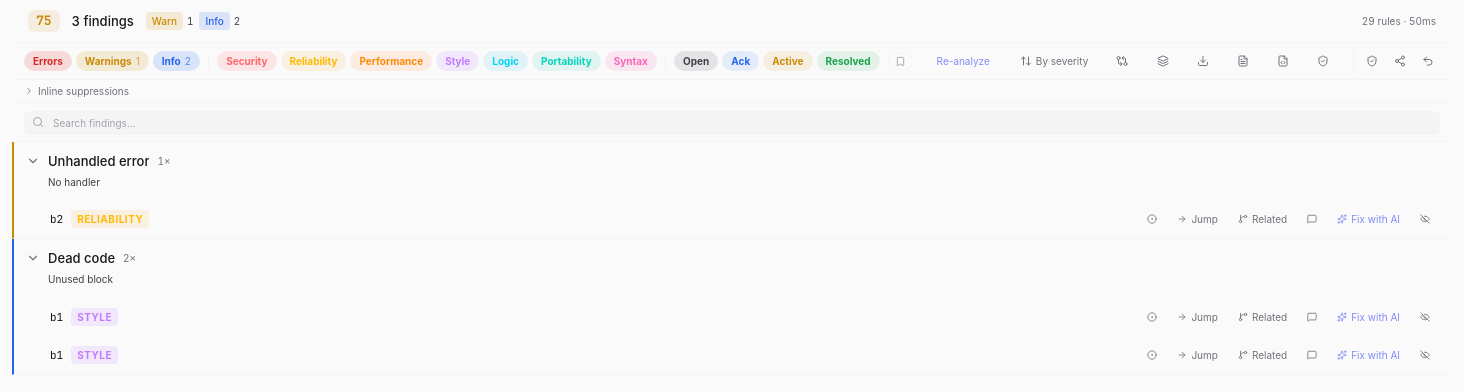
Test: FindingsTab › search debounce › applies the query after the debounce elapses
Check: the text "Unhandled error" is shown, box left=48, top=152, right=149, bottom=170
In the field with placeholder "Search findings...": (732, 123) left=24, top=111, right=1440, bottom=135, type "unhandled"
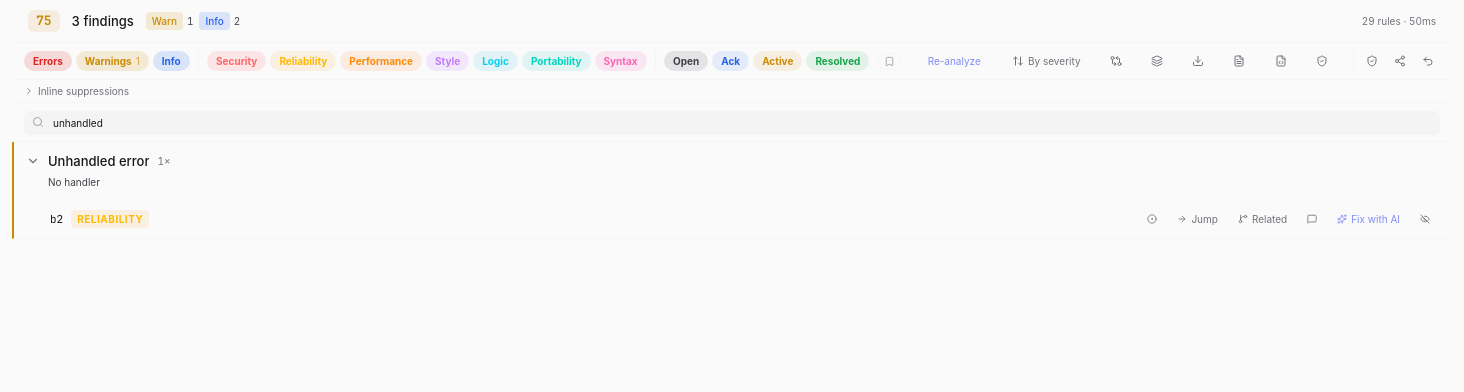
Check: the button "Dead code" is gone
